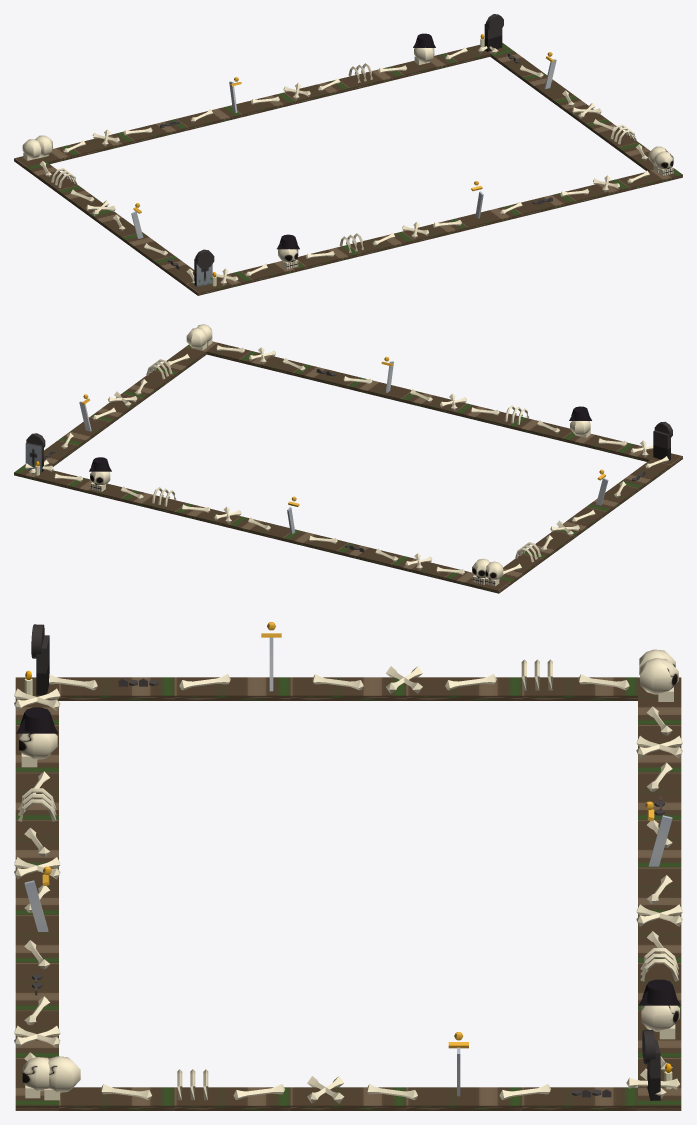
Rendered from Rim_Bones.fbx.
3 views of the same model, one above another, from view 1: azimuth 30°, elevation 25°; view 2: azimuth 150°, elevation 25°; view 3: azimuth 270°, elevation 25° (orthographic). The views are drawn at different scales.
Visible parts, largest first — view 1: Rim_Bones; view 2: Rim_Bones; view 3: Rim_Bones.
Part boxes in pixels (x1=…): Rim_Bones: x1=14, y1=14, x2=682, y2=295; Rim_Bones: x1=14, y1=324, x2=682, y2=593; Rim_Bones: x1=14, y1=622, x2=682, y2=1110.
Size of the model in its own units: 3.51 by 0.2769 by 2.31.
Materials: 1 (1 with a texture image).
